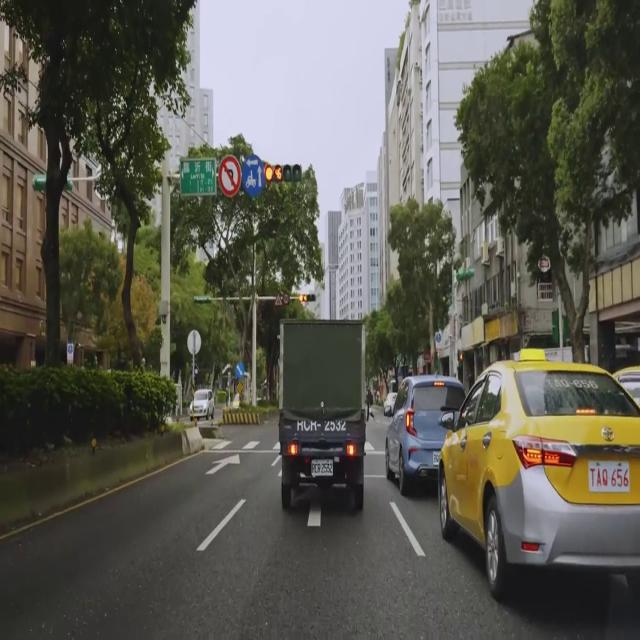red light: (263, 164, 302, 183), (298, 294, 316, 302)
